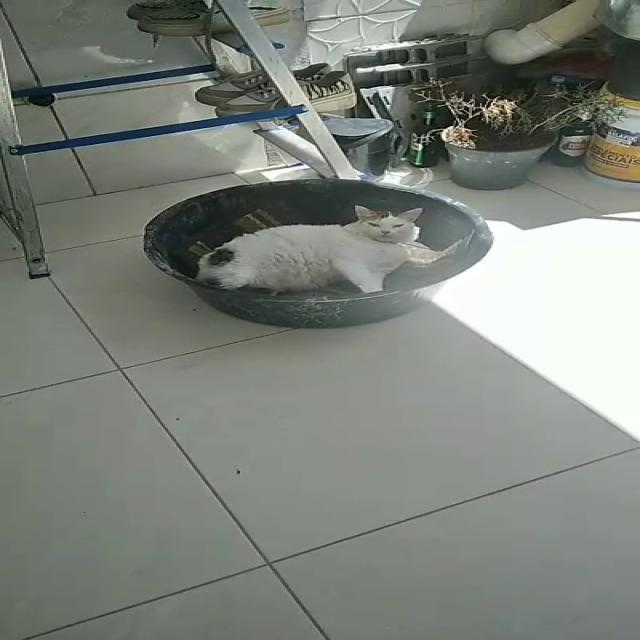Simba: (196, 204, 466, 297)
